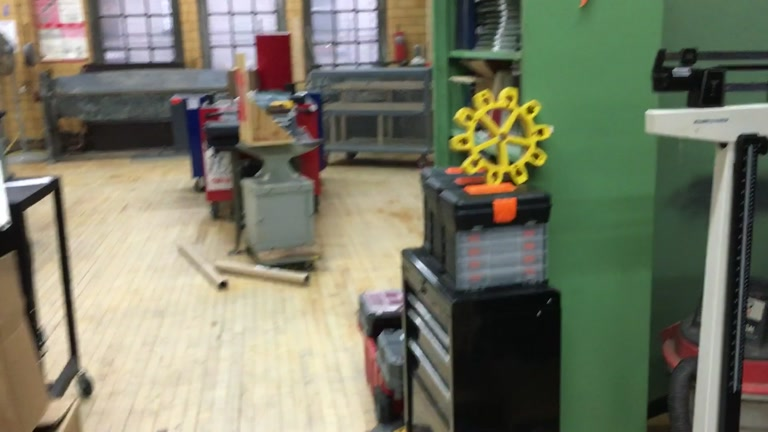gear: (449, 86, 551, 189)
